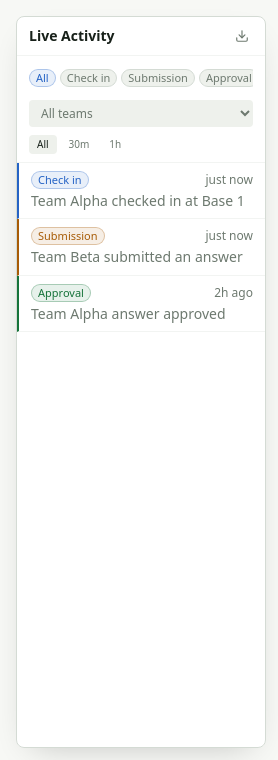
ActivityFeed › filters by event type when type pill is clicked
Check: the text "Team Alpha checked in at Base 1" is shown, box [31,191,253,210]
Note: Click the "check in" type filter
Click the button with test id "filter-check_in" at (88, 76), box [60,64,117,88]
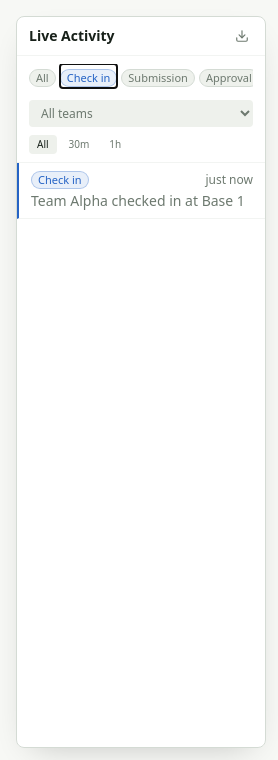
Check: the text "Team Alpha checked in at Base 1" is shown, box [31,191,253,210]
Check: the text "Team Beta submitted an answer" is gone
Check: the text "Team Alpha answer approved" is gone
